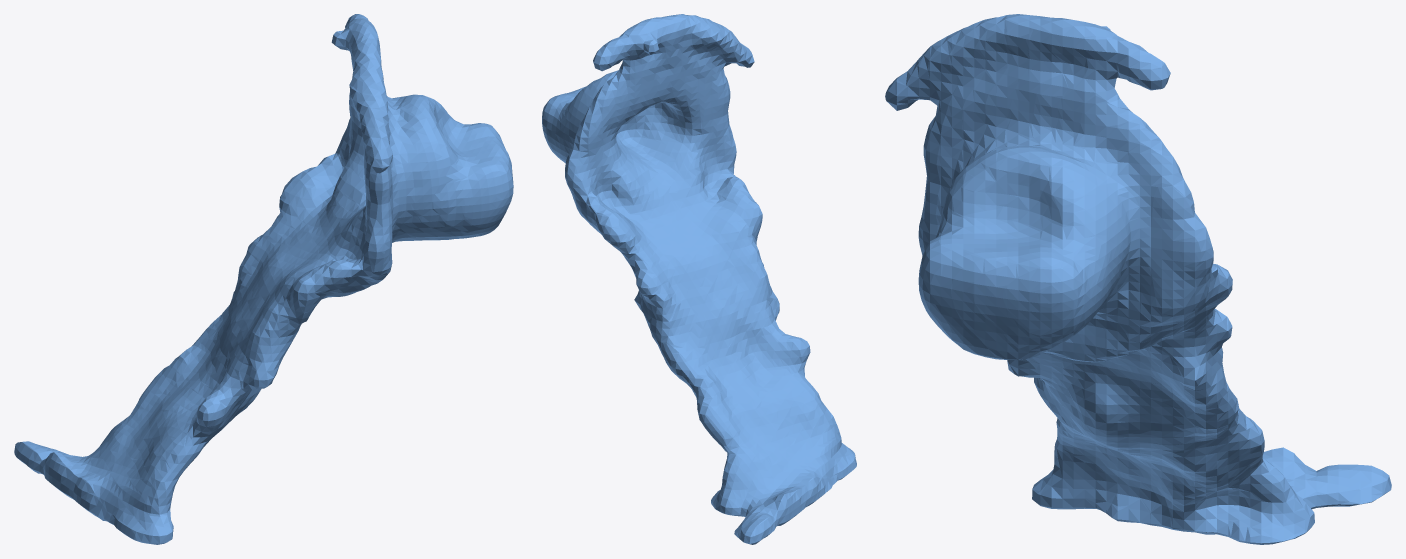
File: water_0034.glb
3 views of the same model, side by side, from view 1: azimuth 30°, elevation 25°; view 2: azimuth 150°, elevation 25°; view 3: azimuth 270°, elevation 25° (orthographic). The views are drawn at different scales.
Parts seen in each view (by area): view 1: Water_0034; view 2: Water_0034; view 3: Water_0034.
Boxes of the visible parts, bbox=[...] form: Water_0034: bbox=[14, 14, 513, 544]; Water_0034: bbox=[542, 14, 856, 544]; Water_0034: bbox=[885, 14, 1391, 544].
Size of the model in its own units: 3.03 by 3.67 by 2.68.
